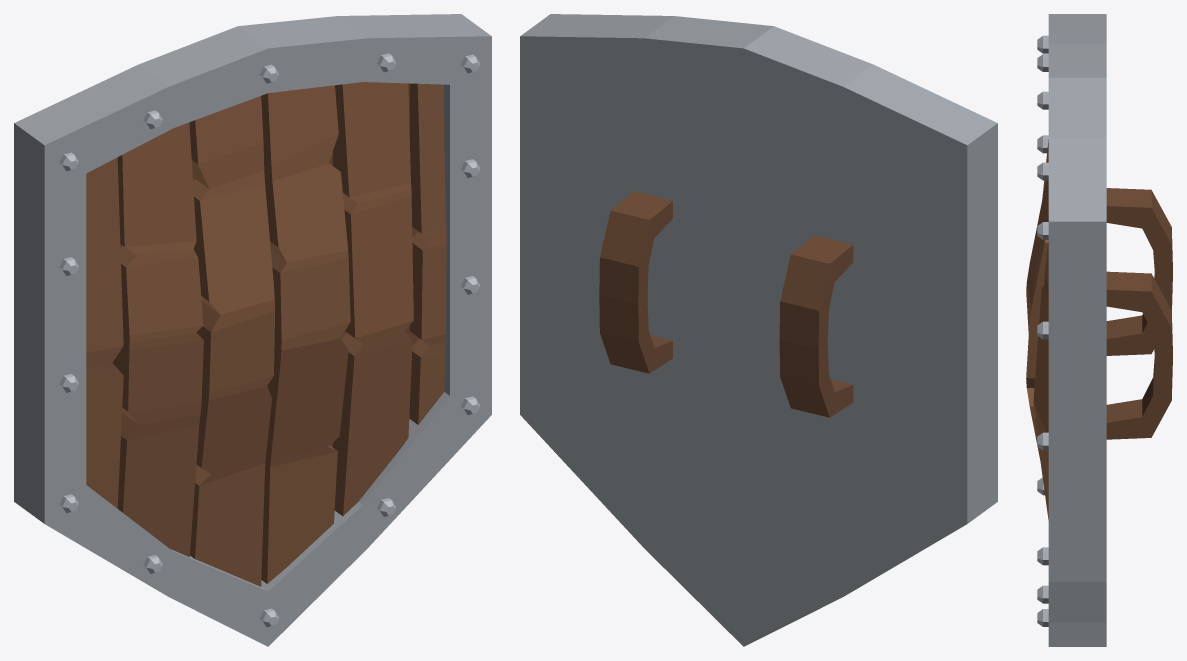
File: shield_heater_2.glb
3 renders of one model, left to right at view 1: azimuth 30°, elevation 25°; view 2: azimuth 150°, elevation 25°; view 3: azimuth 270°, elevation 25°, orthographic. The views are drawn at different scales.
Parts seen in each view (by area): view 1: Shield_Heater_2; view 2: Shield_Heater_2; view 3: Shield_Heater_2.
Boxes of the visible parts, box(x1,y1,x2,y2) form: Shield_Heater_2: box(14, 14, 491, 646); Shield_Heater_2: box(520, 14, 997, 646); Shield_Heater_2: box(1026, 14, 1172, 646).
Bounding box in the file's own units: 2.01 × 2.56 × 0.5987.
